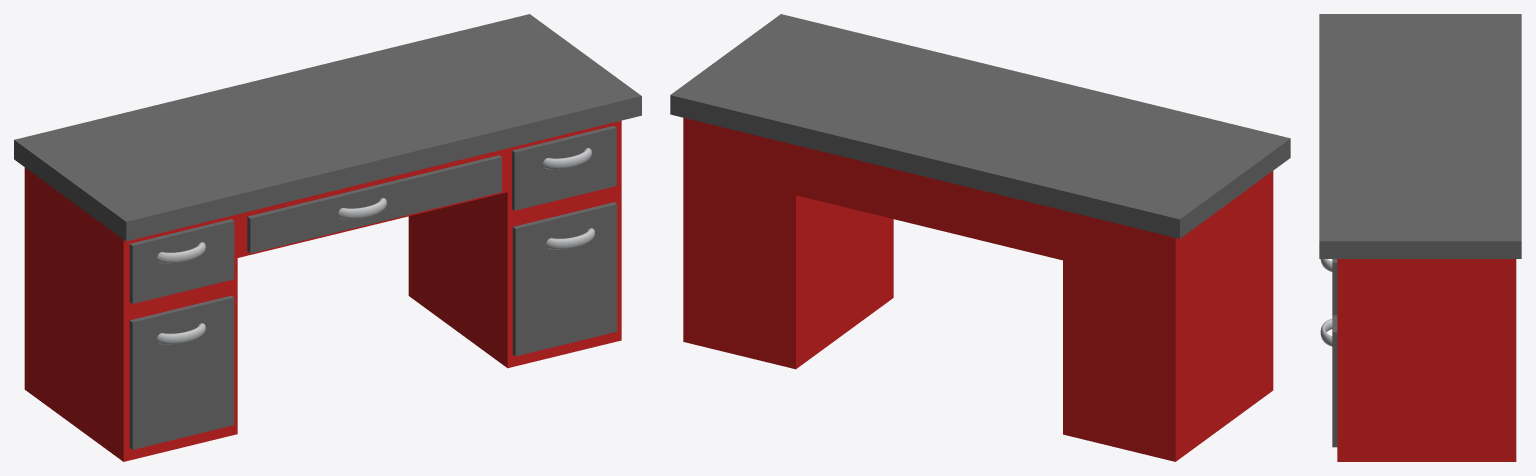
The model's file is ESCRITORIO.glb.
3 renders of one model, left to right at view 1: azimuth 30°, elevation 25°; view 2: azimuth 150°, elevation 25°; view 3: azimuth 270°, elevation 25°, orthographic. The views are drawn at different scales.
Parts seen in each view (by area): view 1: Caja (×2), Caja 1, Caja 3, Caja 4, Caja 7, Caja 2, Caja 5, Caja 6; view 2: Caja (×2), Caja 1, Caja 6; view 3: Caja, Caja 1, Caja 4, Caja 5, Toro 3.
Part boxes in pixels (x1,y1,x2,y2): Caja (×2): (14,14,641,461); Caja 1: (408,120,621,368); Caja 3: (129,295,234,449); Caja 4: (512,202,617,356); Caja 7: (247,155,501,253); Caja 2: (129,219,234,303); Caja 5: (512,126,616,210); Caja 6: (224,147,510,258); Caja (×2): (670,14,1290,461); Caja 1: (683,118,893,369); Caja 6: (792,144,1075,260); Caja: (1319,14,1521,258); Caja 1: (1337,259,1516,461); Caja 4: (1332,315,1337,447); Caja 5: (1332,259,1337,315); Toro 3: (1320,318,1332,346).
Bounding box in the file's own units: 2.19 × 1.01 × 0.8228.
